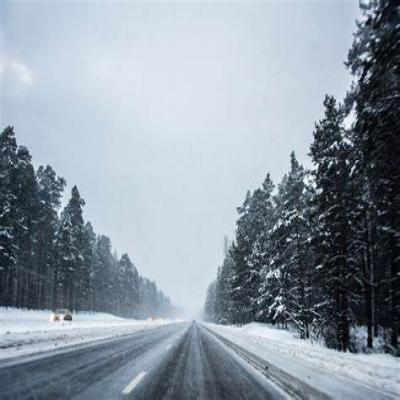iced-road: (0, 324, 284, 400)
